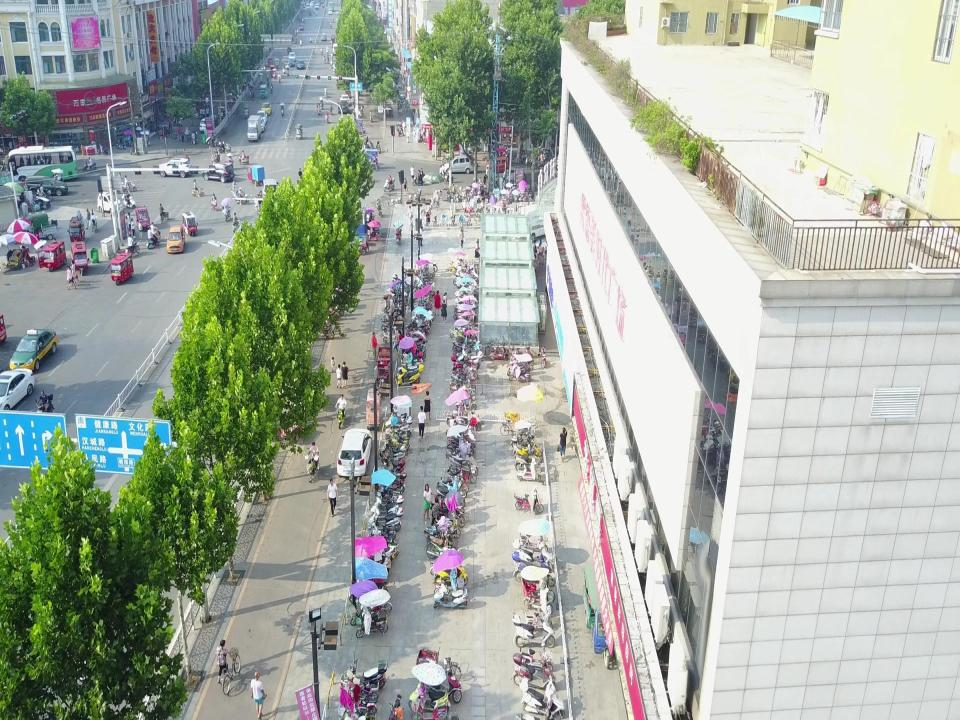bus: (3, 145, 77, 182)
car: (9, 328, 58, 370), (336, 428, 372, 476), (0, 368, 34, 410), (24, 175, 68, 197), (157, 157, 191, 178), (202, 163, 234, 183), (442, 156, 478, 173), (165, 225, 185, 254), (485, 156, 510, 173), (263, 178, 279, 203)
truck: (247, 115, 261, 142)
